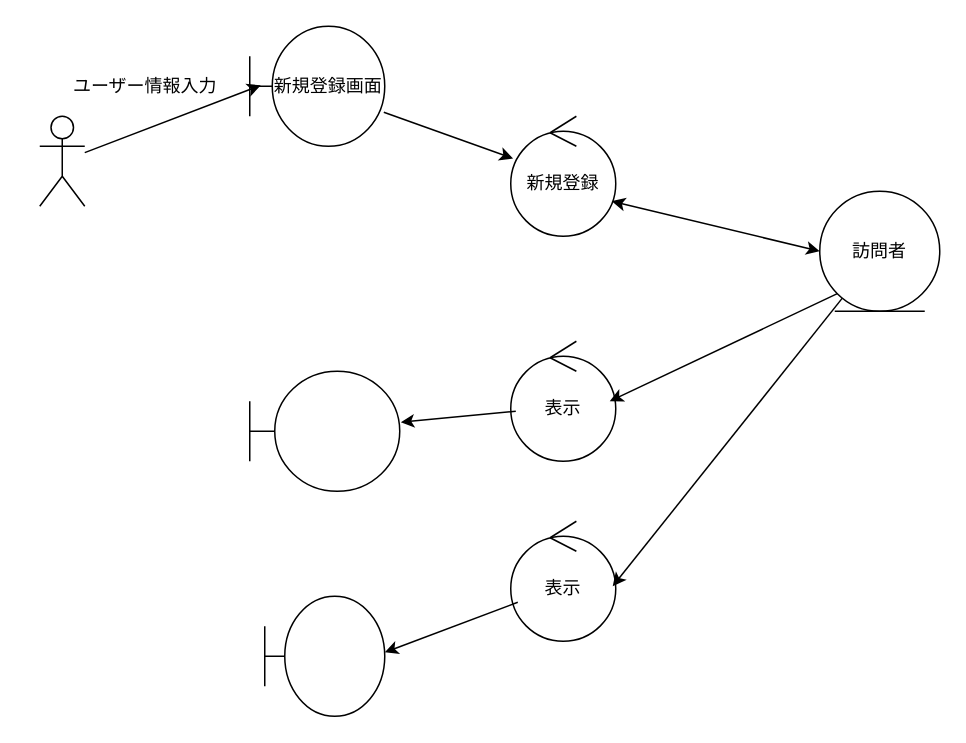
Some shapes in this 966 by 743 pixel diagram are drawn without their labels. Each missing label, with the centre of its shape:
"ユーザー" belongs at point 61,160.
"新規登録完了画面" belongs at point 324,430.
"登録エラーメッセージ画面" belongs at point 324,655.
